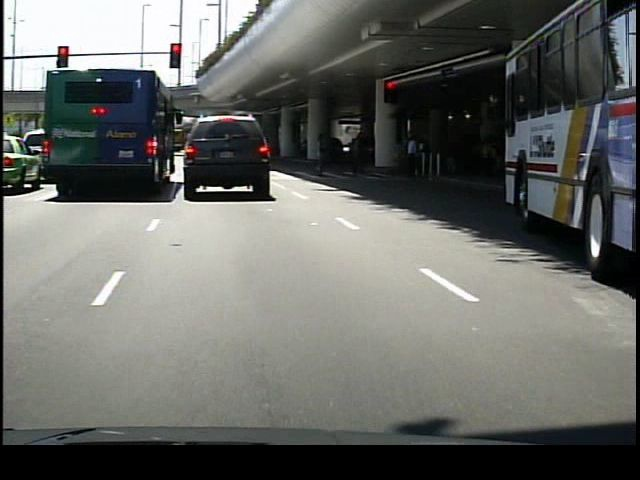person: (351, 129, 373, 184), (311, 129, 335, 178), (402, 133, 422, 181)
